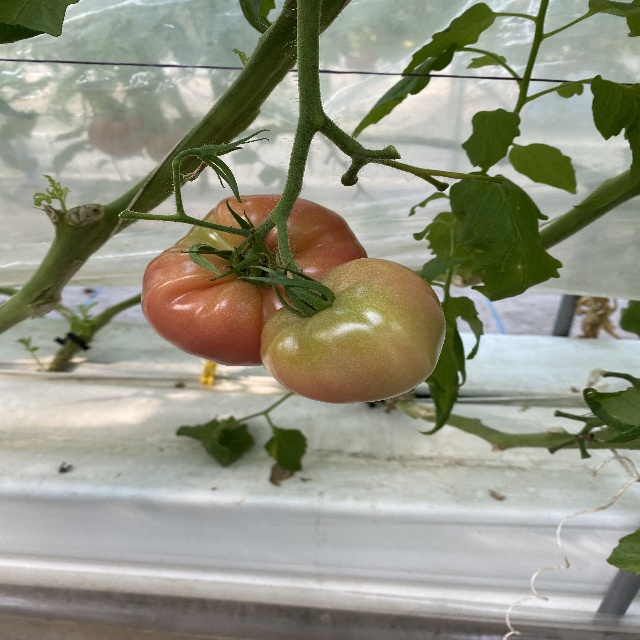b_half_ripened: (140, 195, 368, 366), (259, 257, 446, 404)
